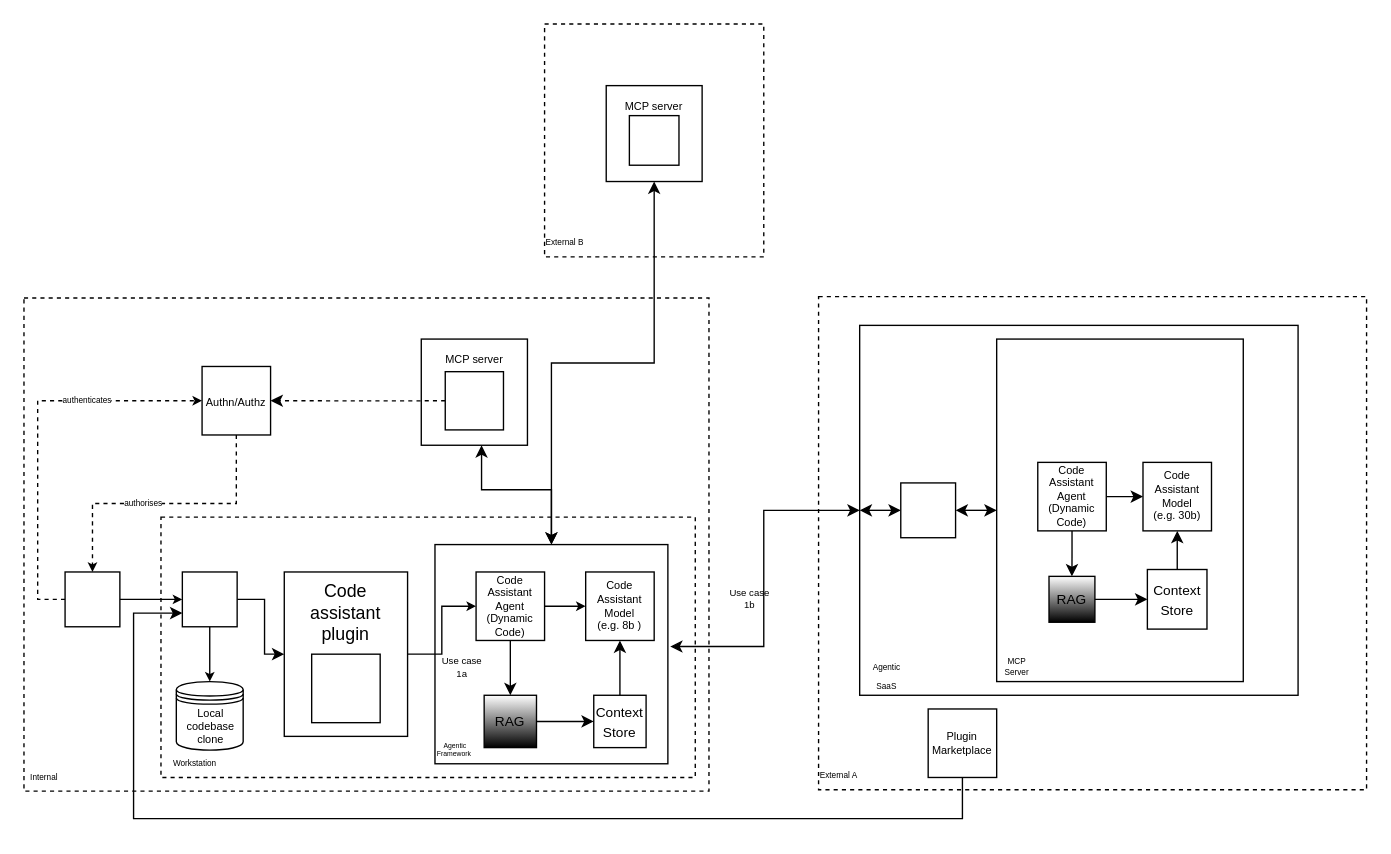
This 1391x854 diagram has some shape labels left out. The shapes that lost their labels are listed below. From the top down, each one's centre as x and y in pixels, then its label:
(653,139): Cloud Service
(473,400): Third Party Service
(927,510): MCP Gateway
(92,599): Developer
(209,599): IDE
(345,688): Code Assistant Agent (Static Data )
